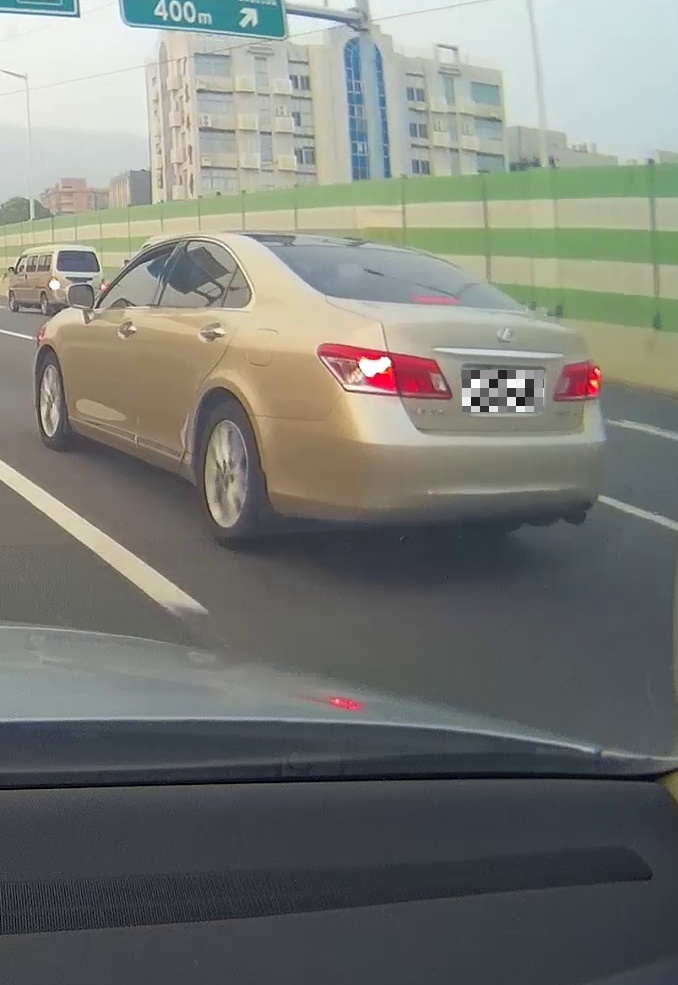L_light: (317, 341, 453, 401)
R_light: (552, 357, 601, 402)
T_light: (410, 294, 462, 306)
day-brake: (233, 228, 607, 546)
plate_1: (462, 370, 544, 412)
